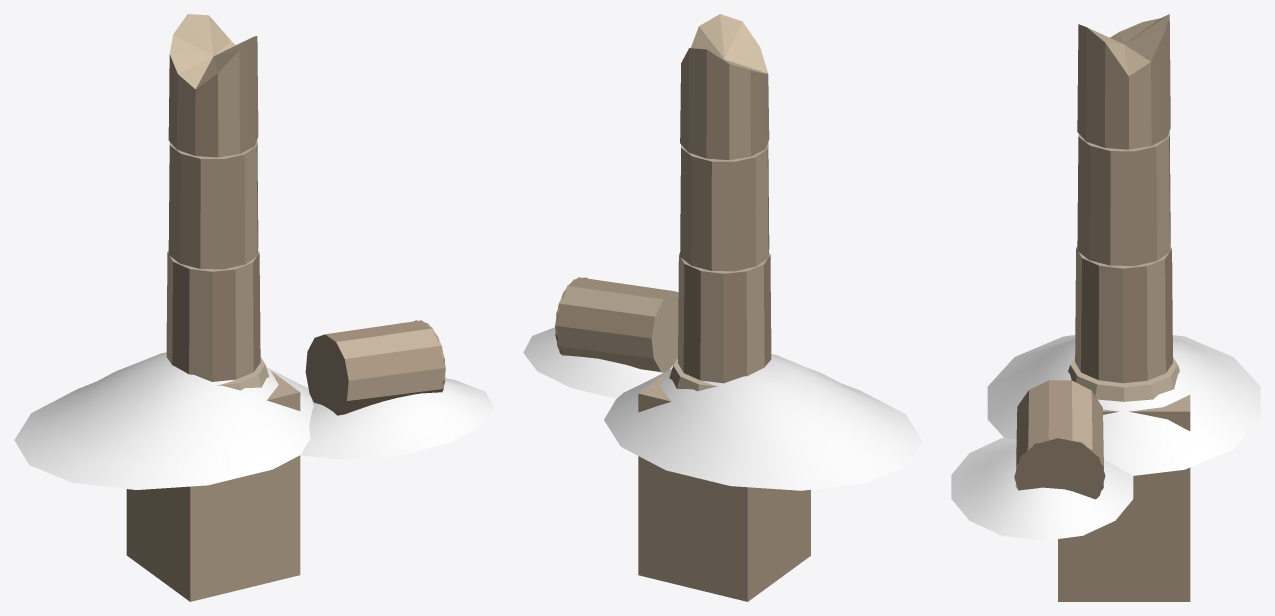
File: ruinas_columna_b.glb
3 renders of one model, left to right at view 1: azimuth 30°, elevation 25°; view 2: azimuth 150°, elevation 25°; view 3: azimuth 270°, elevation 25°, orthographic. The views are drawn at different scales.
Parts seen in each view (by area): view 1: ruinas_columna_b, ruinas_columna_b_arena; view 2: ruinas_columna_b, ruinas_columna_b_arena; view 3: ruinas_columna_b, ruinas_columna_b_arena.
Boxes of the visible parts, bbox=[...] form: ruinas_columna_b: bbox=[126, 14, 445, 601]; ruinas_columna_b_arena: bbox=[14, 352, 494, 489]; ruinas_columna_b: bbox=[555, 14, 810, 601]; ruinas_columna_b_arena: bbox=[523, 327, 922, 490]; ruinas_columna_b: bbox=[1014, 14, 1190, 601]; ruinas_columna_b_arena: bbox=[951, 335, 1260, 540].
Size of the model in its own units: 4.3 by 5.28 by 2.65.
